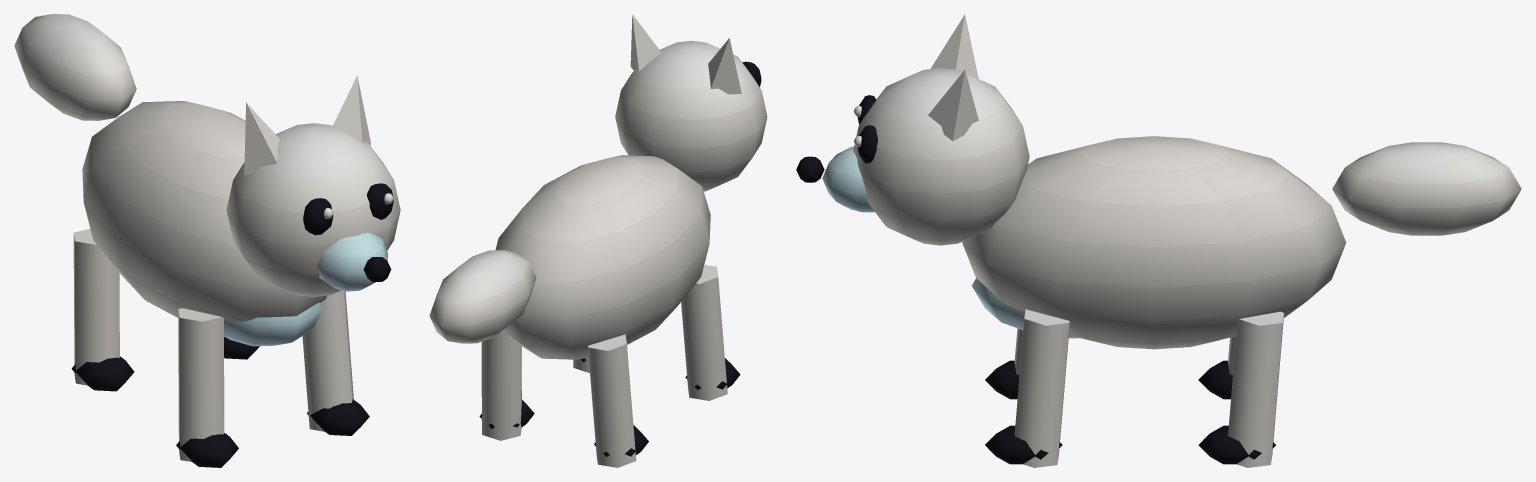
File: monster_snow_fox.glb
3 views of the same model, side by side, from view 1: azimuth 30°, elevation 25°; view 2: azimuth 150°, elevation 25°; view 3: azimuth 270°, elevation 25° (orthographic). The views are drawn at different scales.
Visible parts, largest first — view 1: body_t0_palette, legl_t0_palette, tail_t0_palette, legr_t0_palette; view 2: body_t0_palette, legl_t0_palette, tail_t0_palette, legr_t0_palette; view 3: body_t0_palette, legr_t0_palette, tail_t0_palette, legl_t0_palette.
Boxes of the visible parts, x1,y1,x2,y2 form: body_t0_palette: (82,76,400,346); legl_t0_palette: (71,229,238,467); tail_t0_palette: (14,14,136,120); legr_t0_palette: (224,290,369,435); body_t0_palette: (495,14,767,359); legl_t0_palette: (588,264,740,467); tail_t0_palette: (429,250,536,343); legr_t0_palette: (479,331,589,440); body_t0_palette: (796,14,1346,349); legr_t0_palette: (985,309,1284,467); tail_t0_palette: (1332,142,1521,235); legl_t0_palette: (985,328,1236,399).
Bounding box in the file's own units: 0.18 × 0.3603 × 0.612.
